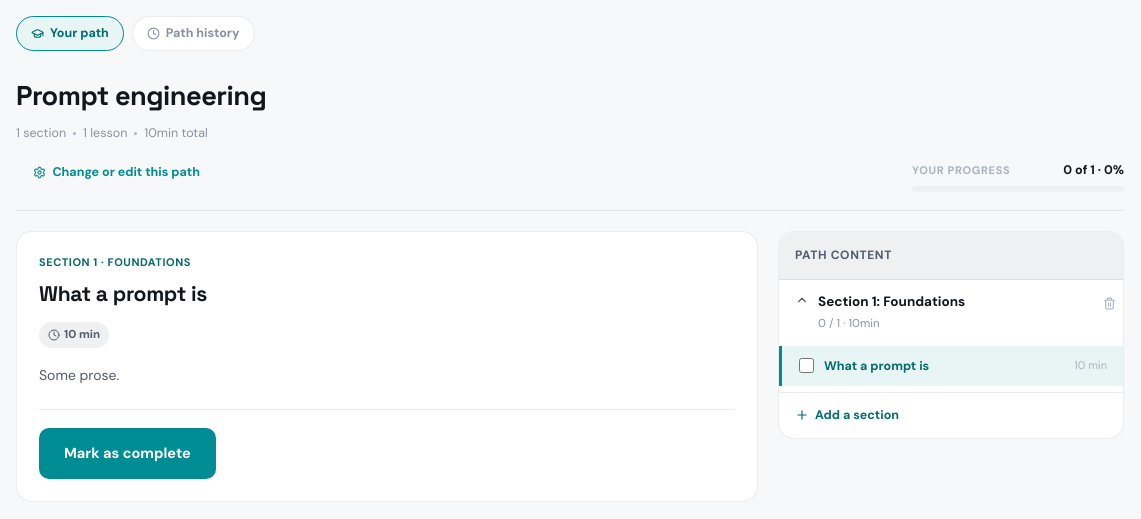
it: LearnPath tabs › lists the paths built before, from the path screen
This screenshot has width=1141, height=519.
Expected: the heading "What a prompt is" is shown, [39,280,207,307]
Click the button "Path history" at (193, 34), box [132,16,255,51]
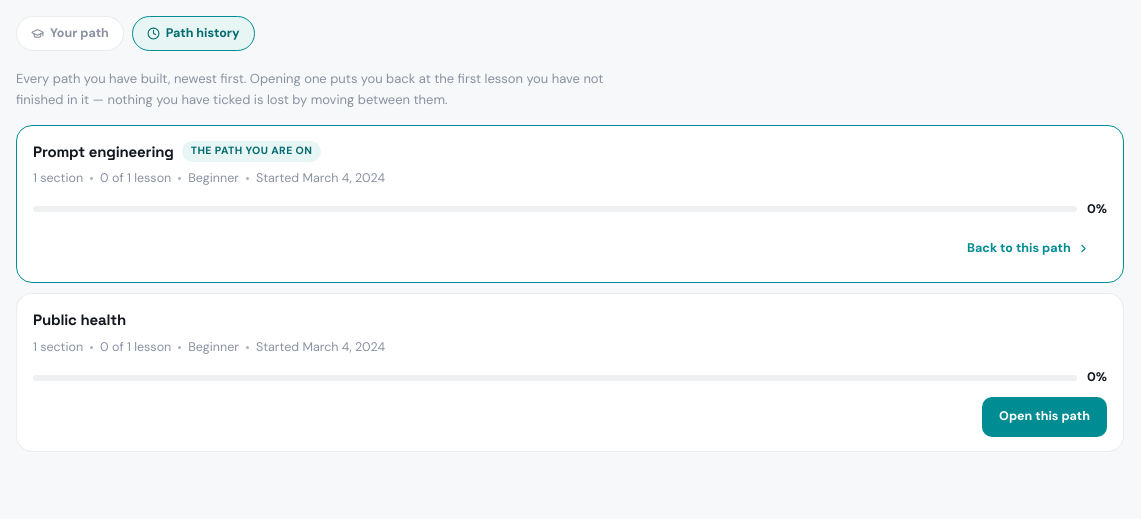
Result: the heading "Public health" is shown at [33,308,126,332]
